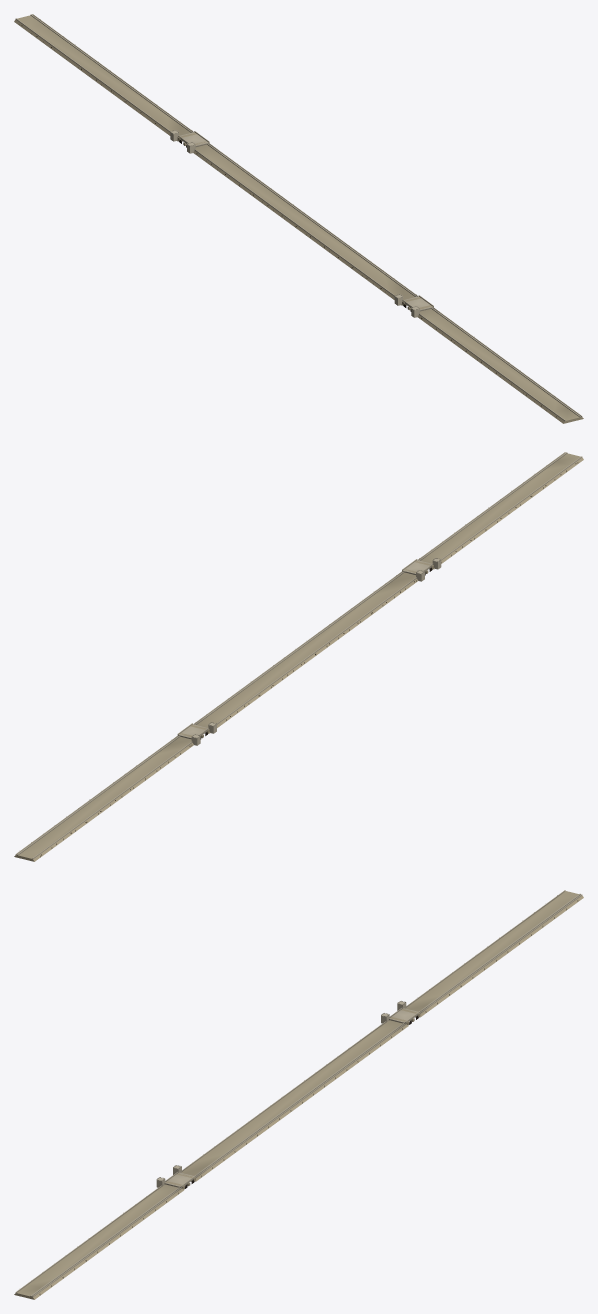
Rendered from heptastadion.glb.
3 renders of one model, top to bottom at view 1: azimuth 30°, elevation 25°; view 2: azimuth 150°, elevation 25°; view 3: azimuth 330°, elevation 25°, orthographic.
Visible parts, largest first — view 1: p0_causeway, p1_bridges; view 2: p0_causeway, p1_bridges; view 3: p0_causeway, p1_bridges.
Part boxes in pixels (left/top/right/bottom): p0_causeway: left=14, top=14, right=583, bottom=423; p1_bridges: left=177, top=131, right=433, bottom=311; p0_causeway: left=14, top=452, right=583, bottom=861; p1_bridges: left=177, top=559, right=433, bottom=739; p0_causeway: left=14, top=890, right=583, bottom=1299; p1_bridges: left=164, top=1007, right=420, bottom=1189.
Size of the model in its own units: 30.35 by 9.77 by 1200.
